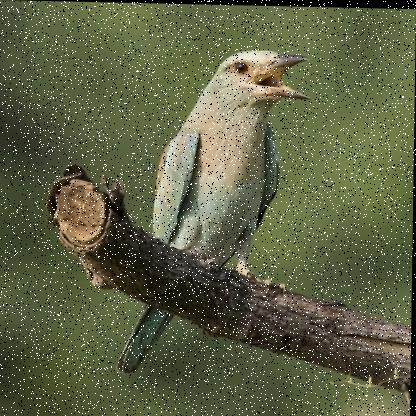Burung: (118, 48, 306, 379)
